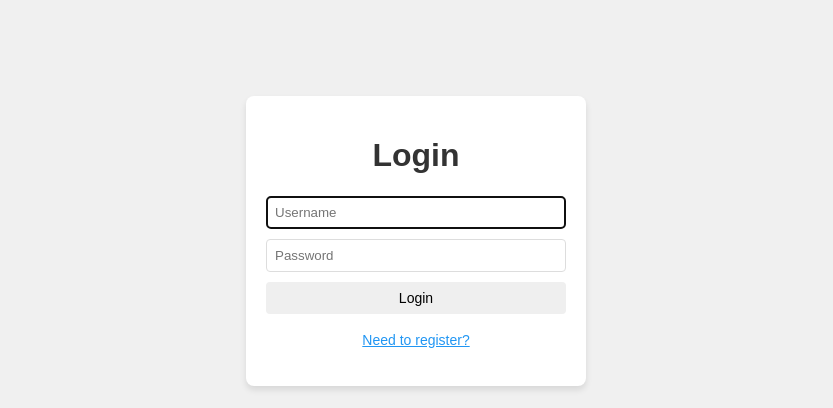
Test case: App Component › handles successful login
Type "testuser" into the field with placeholder "Username" at (416, 212), box [266,196,566,229]
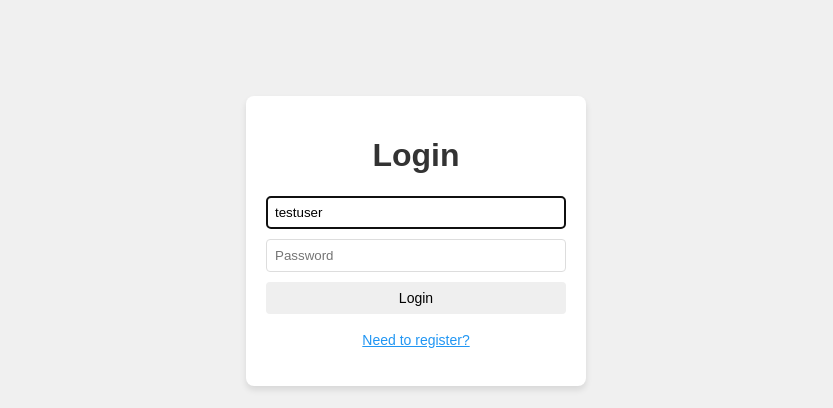
Type "password" into the password field with placeholder "Password" at (416, 255), box [266,239,566,272]
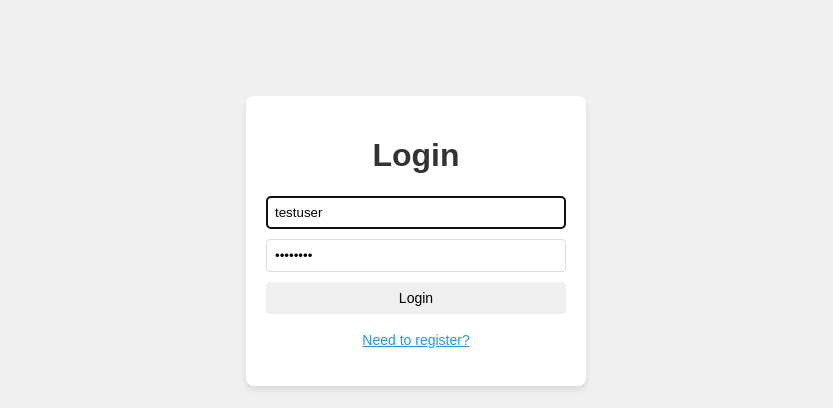
Click the button "Login" at (416, 298), box [266,282,566,314]
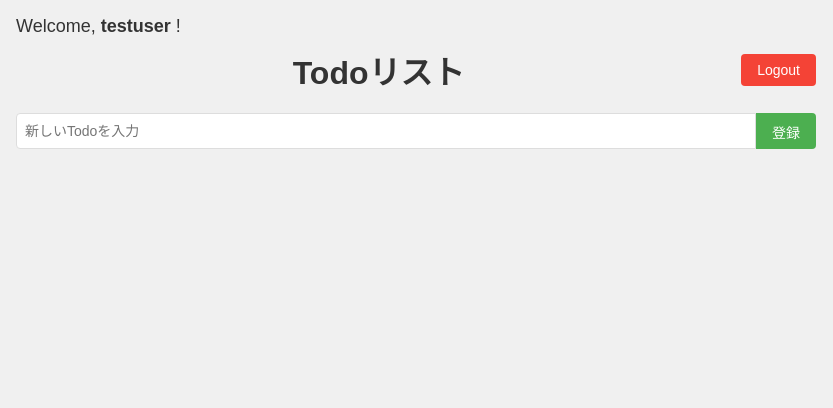
Check: the text "Welcome," is shown, box [16,16,101,36]
Check: the text "testuser" is shown, box [101,16,171,36]
